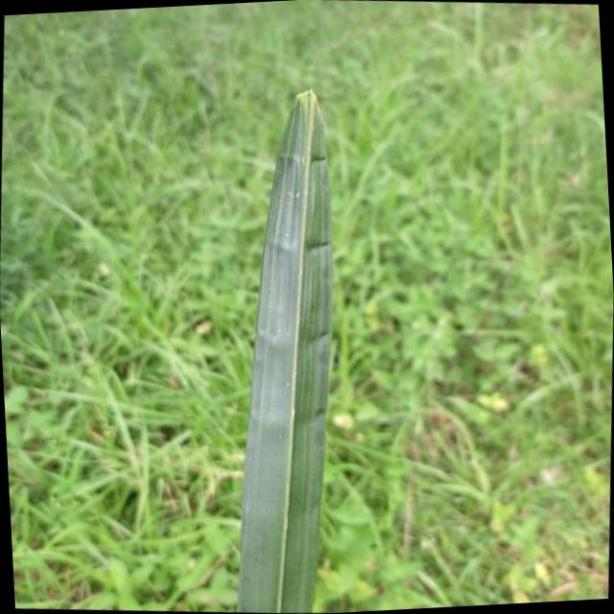Boron: (237, 77, 339, 614)
